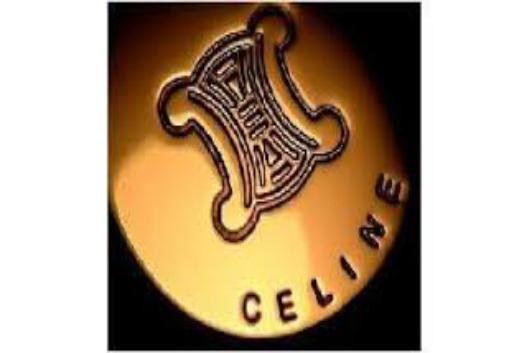CELINE: (237, 171, 408, 329)
